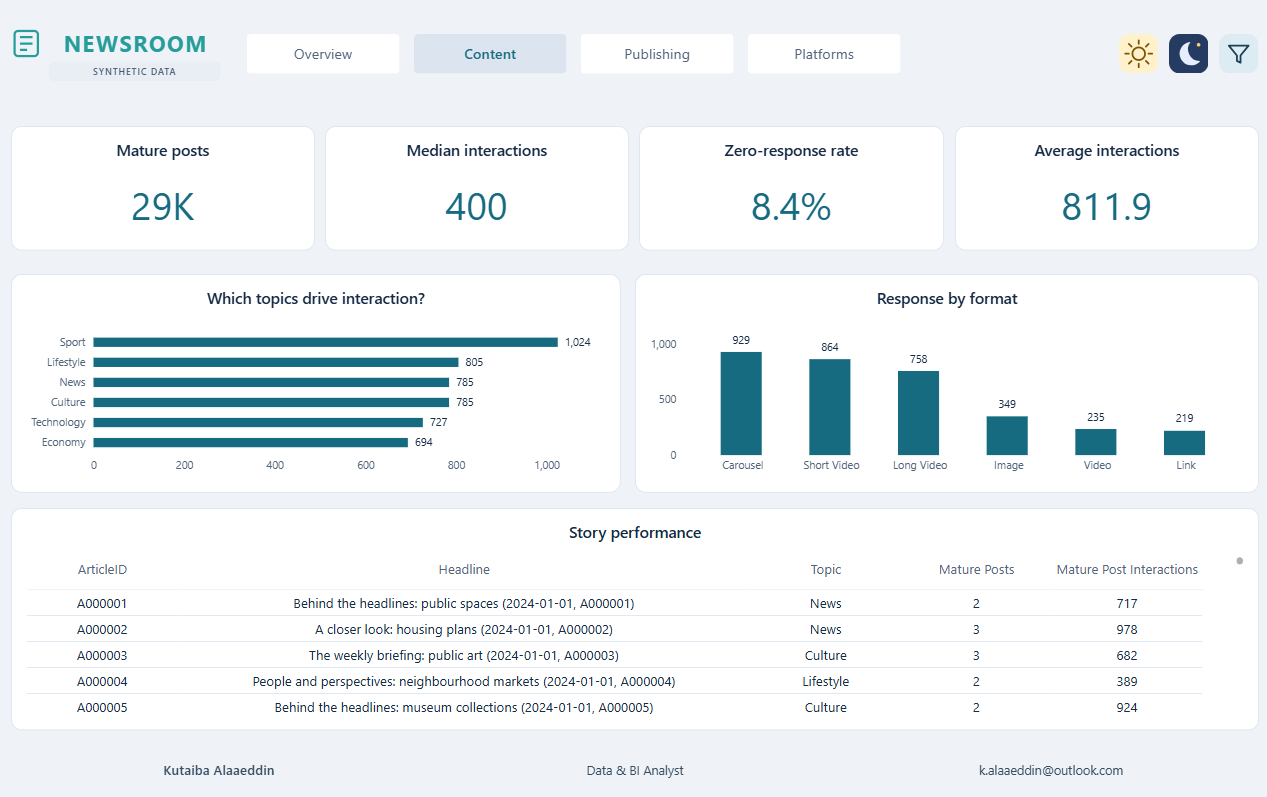

Layout of this report page (visuals, bound fields, positions):
{"tool":"powerbi","page":{"name":"Content performance","canvas":[1440,880],"ordinal":1},"visuals":[{"type":"image","box":[0,0,1440,880],"z":0},{"type":"actionButton","box":[288,28,170,44],"z":3000},{"type":"actionButton","box":[474,28,170,44],"z":4000},{"type":"actionButton","box":[660,28,170,44],"z":5000},{"type":"actionButton","box":[846,28,170,44],"z":6000},{"type":"image","box":[1372,28,44,44],"z":8000},{"type":"card","title":"Mature posts","fields":{"Values":["ReportMetrics.Mature Posts"]},"box":[24.2,130,338.5,139],"z":9000},{"type":"image","box":[24,14,240,70],"z":10000},{"type":"card","title":"Median interactions","fields":{"Values":["ReportMetrics.Median Mature Interactions"]},"box":[374.8,130,338.5,139],"z":11000},{"type":"card","title":"Zero-response rate","fields":{"Values":["ReportMetrics.Zero Interaction Rate"]},"box":[725.4,130,340.1,139],"z":12000},{"type":"card","title":"Average interactions","fields":{"Values":["ReportMetrics.Mean Mature Interactions"]},"box":[1077.6,130,338.5,139],"z":13000},{"type":"clusteredBarChart","title":"Which topics drive interaction?","fields":{"Category":["DimPost.Topic"],"Y":["ReportMetrics.Mean Mature Interactions"]},"box":[24,296,680,244],"z":14000},{"type":"clusteredColumnChart","title":"Response by format","fields":{"Category":["DimPost.Format"],"Y":["ReportMetrics.Median Mature Interactions"]},"box":[720,296,696,244],"z":15000},{"type":"tableEx","title":"Story performance","fields":{"Values":["DimPost.ArticleID","DimPost.Headline","DimPost.Topic","ReportMetrics.Mature Posts","ReportMetrics.Mature Post Interactions"]},"box":[24,556,1392,248],"z":16000},{"type":"image","box":[24,828,1392,40],"z":17000},{"type":"image","box":[1260,28,44,44],"z":18000},{"type":"image","box":[1316,28,44,44],"z":19000}]}

Visuals, with their boxes in screenshot pixels (x1, y1, x2, y2), scaled from the page's 1440x880 canvas onto the 1267x797 screenshot:
image: [0, 0, 1266, 796]
actionButton: [253, 25, 403, 65]
actionButton: [417, 25, 567, 65]
actionButton: [581, 25, 730, 65]
actionButton: [744, 25, 894, 65]
image: [1207, 25, 1246, 65]
"Mature posts" card: [21, 118, 319, 244]
image: [21, 13, 232, 76]
"Median interactions" card: [330, 118, 628, 244]
"Zero-response rate" card: [638, 118, 937, 244]
"Average interactions" card: [948, 118, 1246, 244]
"Which topics drive interaction?" clusteredBarChart: [21, 268, 619, 489]
"Response by format" clusteredColumnChart: [634, 268, 1246, 489]
"Story performance" tableEx: [21, 504, 1246, 728]
image: [21, 750, 1246, 786]
image: [1109, 25, 1147, 65]
image: [1158, 25, 1197, 65]
